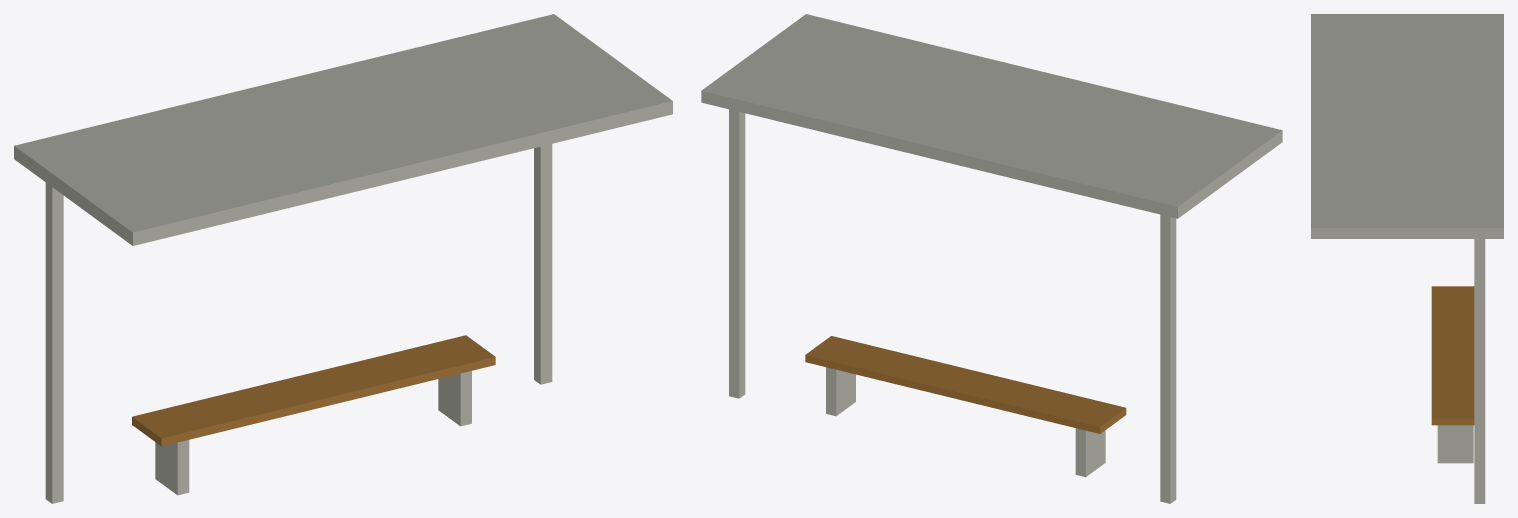
Rendered from SM_ParadaBus_v1_SinCristales_LOD0.fbx.
3 views of the same model, side by side, from view 1: azimuth 30°, elevation 25°; view 2: azimuth 150°, elevation 25°; view 3: azimuth 270°, elevation 25° (orthographic). The views are drawn at different scales.
Visible parts, largest first — view 1: SM_urbano_extra_v6_LOD0; view 2: SM_urbano_extra_v6_LOD0; view 3: SM_urbano_extra_v6_LOD0.
Boxes of the visible parts, bbox=[...] form: SM_urbano_extra_v6_LOD0: bbox=[14, 14, 672, 503]; SM_urbano_extra_v6_LOD0: bbox=[701, 14, 1282, 503]; SM_urbano_extra_v6_LOD0: bbox=[1311, 14, 1503, 503].
Bounding box in the file's own units: 4.2 × 2.6 × 1.6.
